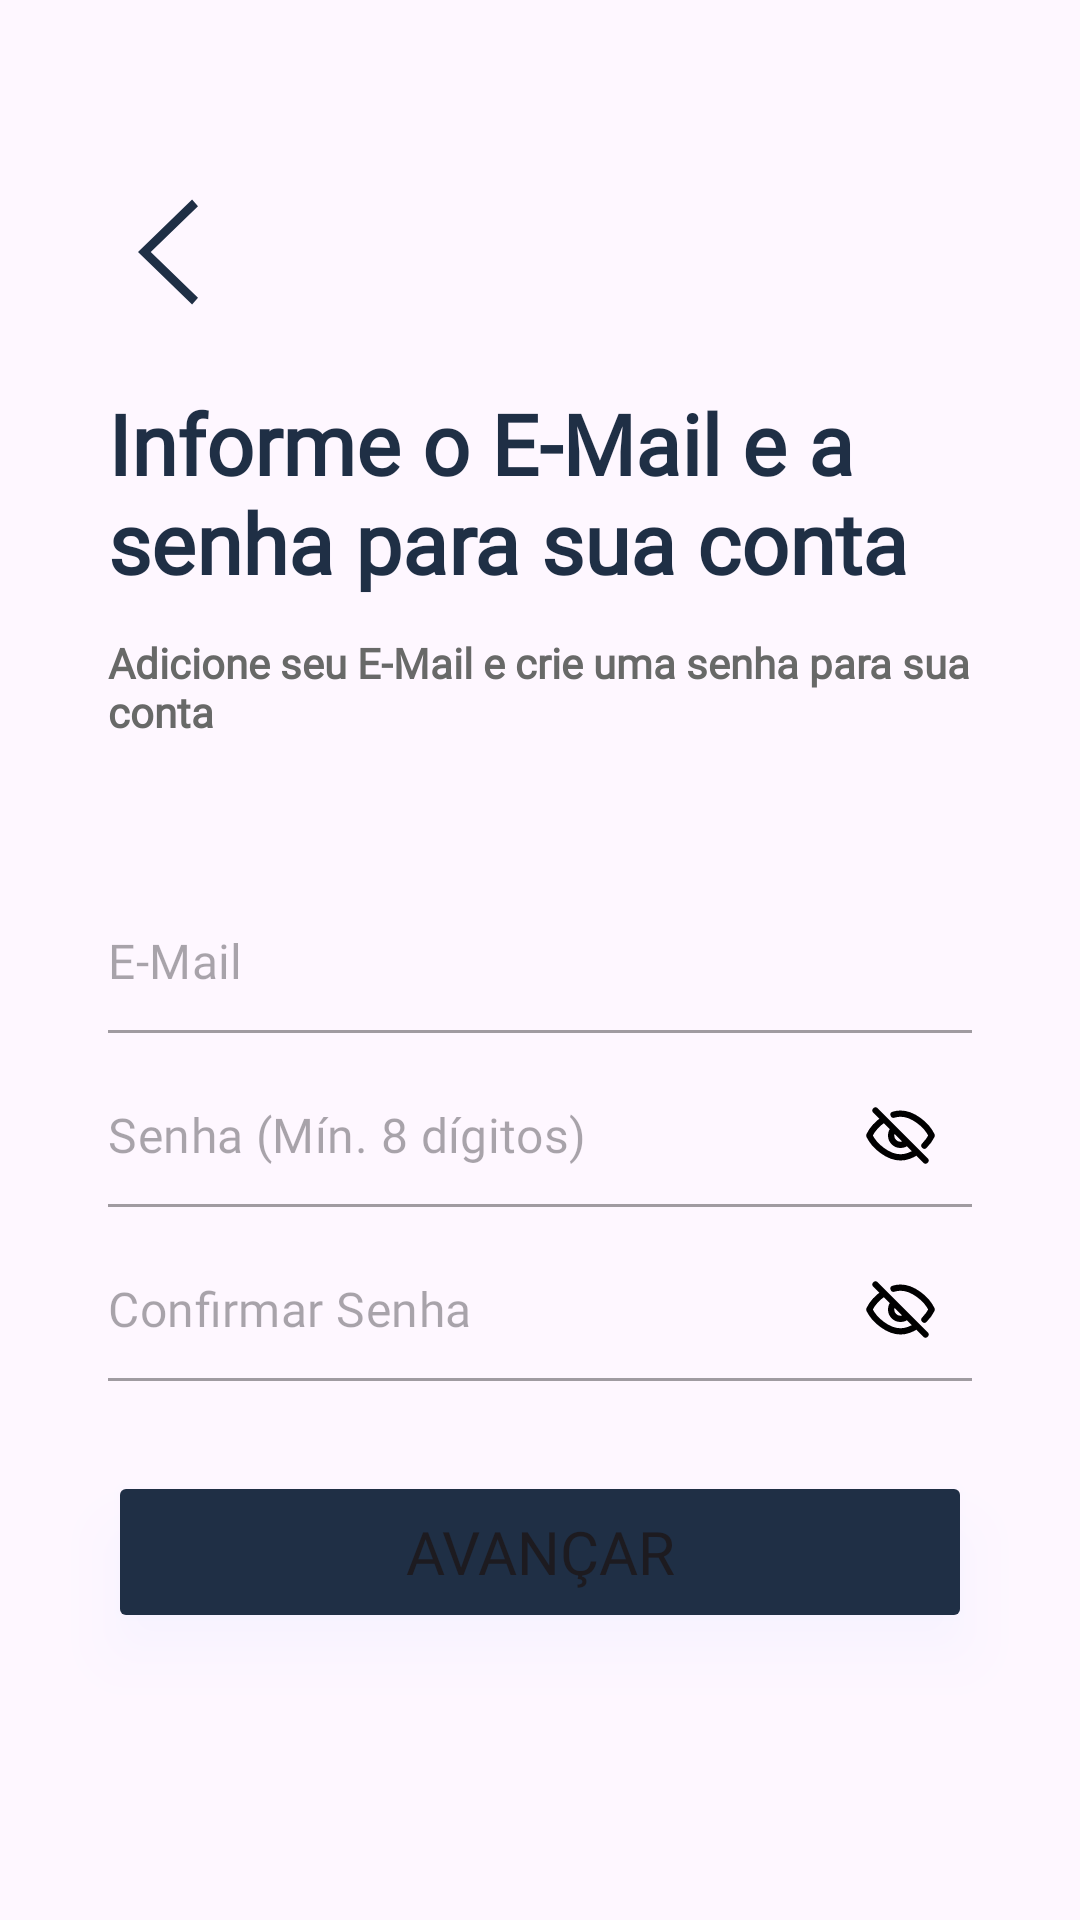

Icon bounding boxes for this 1080px×1920px phone screenshot, format [x1=x1, y1=y1, x2=x2, y2=y2]:
icseta esquerda: [x1=138, y1=199, x2=198, y2=305]
